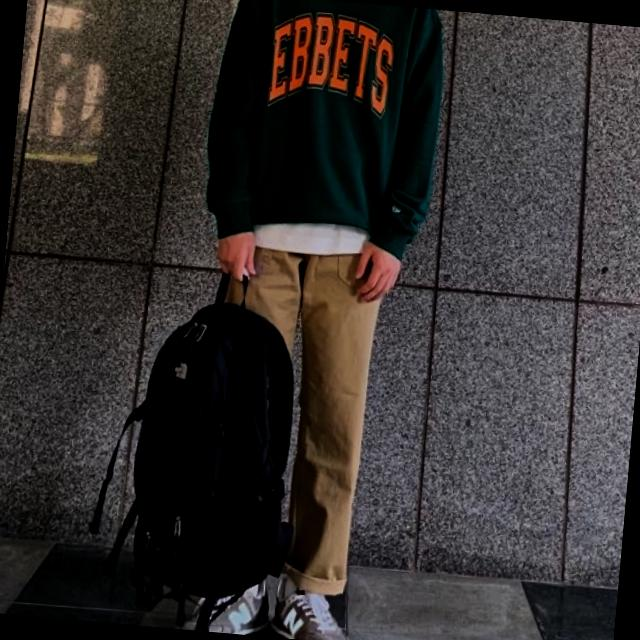cottonpants: (212, 242, 388, 603)
mtm: (202, 0, 451, 265)
